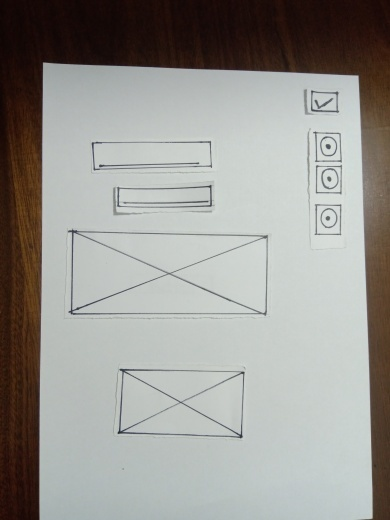checkbox: (311, 92, 343, 116)
img: (73, 228, 269, 316), (121, 368, 245, 442)
radio: (315, 130, 342, 162), (313, 205, 340, 237), (316, 165, 343, 197)
text: (91, 143, 210, 164), (117, 184, 216, 209)
